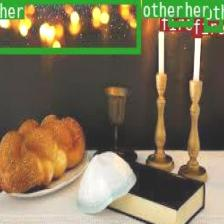fire: (192, 14, 202, 36), (159, 8, 166, 30)
